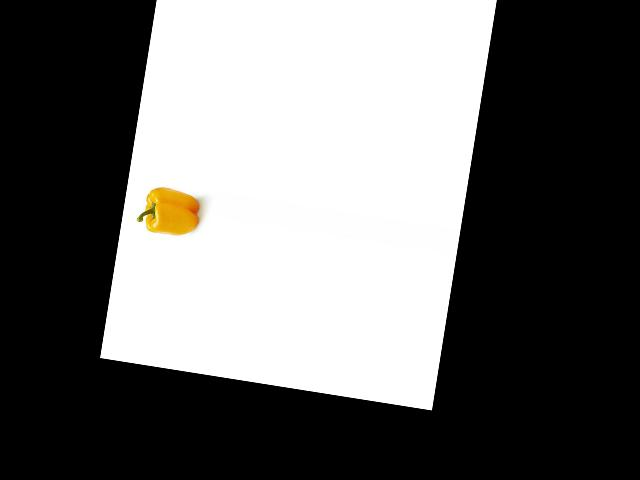bell_pepper: (131, 182, 203, 245)
